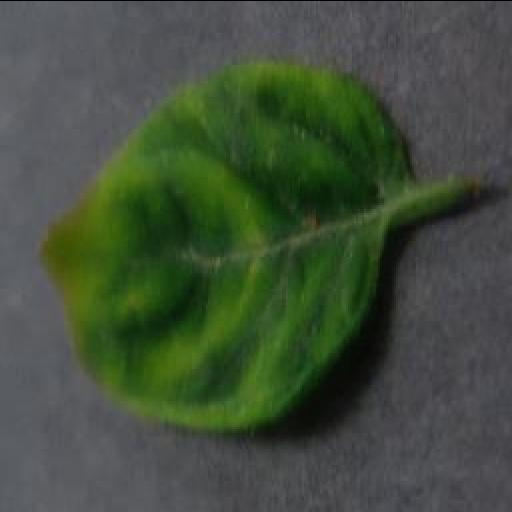disease_tomato: (38, 62, 404, 432)
